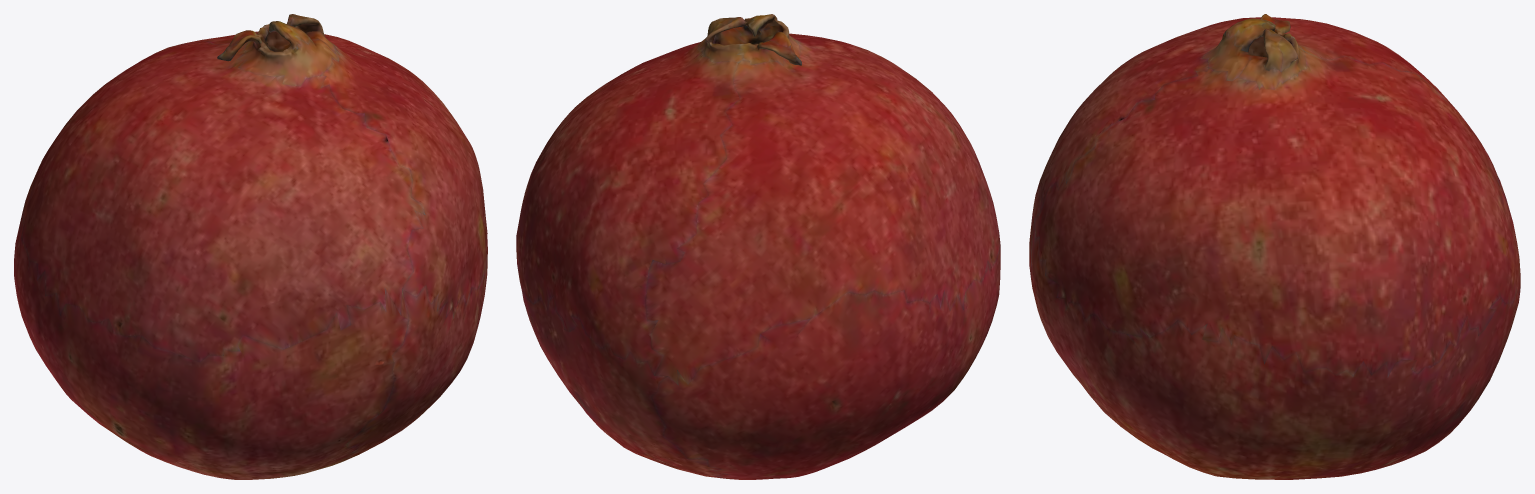
The model's file is food_pomegranate_01.f5ddd776.glb.
3 views of the same model, side by side, from view 1: azimuth 30°, elevation 25°; view 2: azimuth 150°, elevation 25°; view 3: azimuth 270°, elevation 25° (orthographic). The views are drawn at different scales.
Parts seen in each view (by area): view 1: food_pomegranate_01; view 2: food_pomegranate_01; view 3: food_pomegranate_01.
Part boxes in pixels (<box>): food_pomegranate_01: <box>14,14,487,479</box>; food_pomegranate_01: <box>516,14,1000,479</box>; food_pomegranate_01: <box>1029,14,1520,479</box>.
Bounding box in the file's own units: 0.7132 × 0.7175 × 0.72.
Materials: 1 (1 with a texture image).
